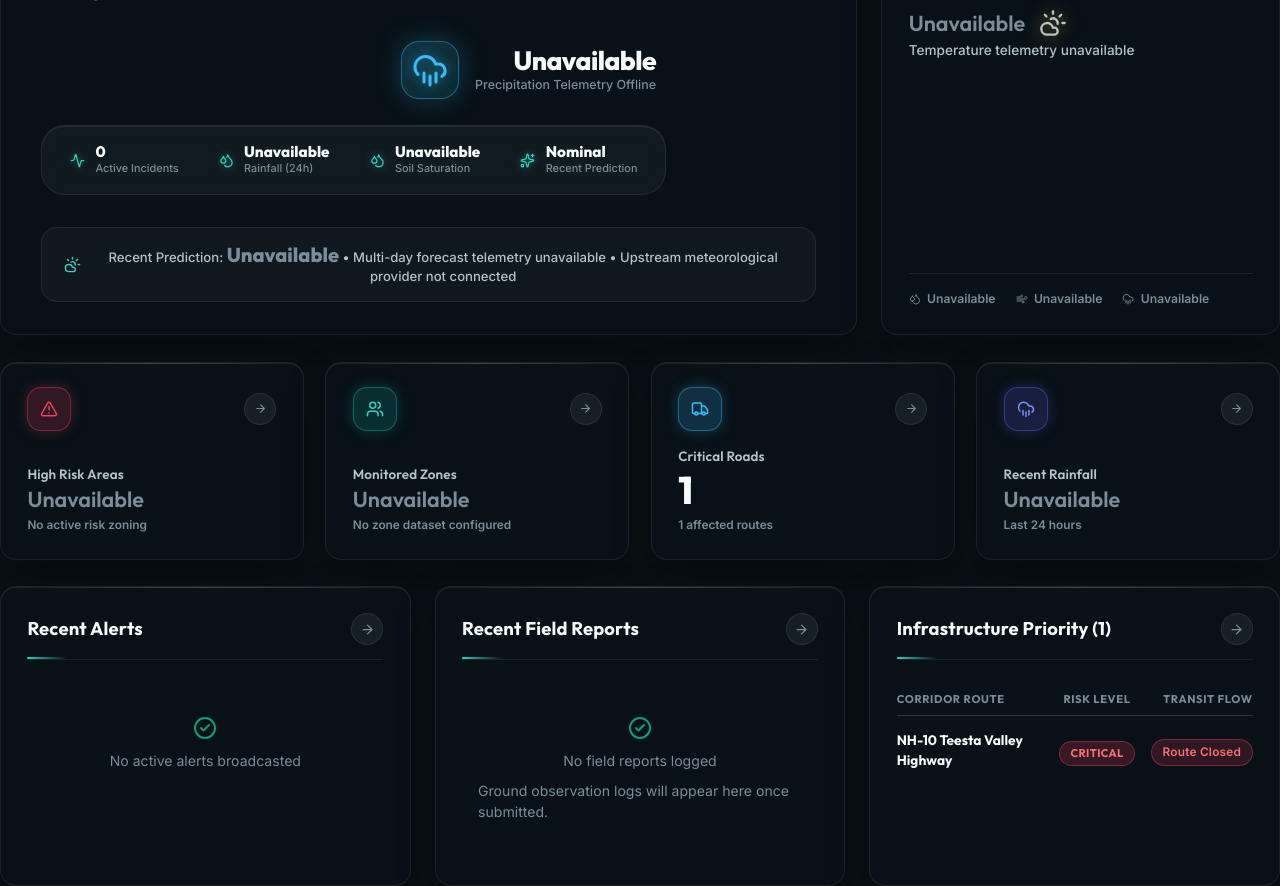
Test: Dashboard Core Data Correctness › Infrastructure Priority Enhancements › clicking the header arrow opens the Infrastructure Priority floating detail modal
(page scrolled)
Expected: the text "NH-10 Teesta Valley Highway" is shown, [897,730,1043,771]
What coordinates should you click on to do the following:
click the button titled "Inspect infrastructure routes in detail"
I would click on:
 (1237, 629)
Its box is [1221,613,1253,645].
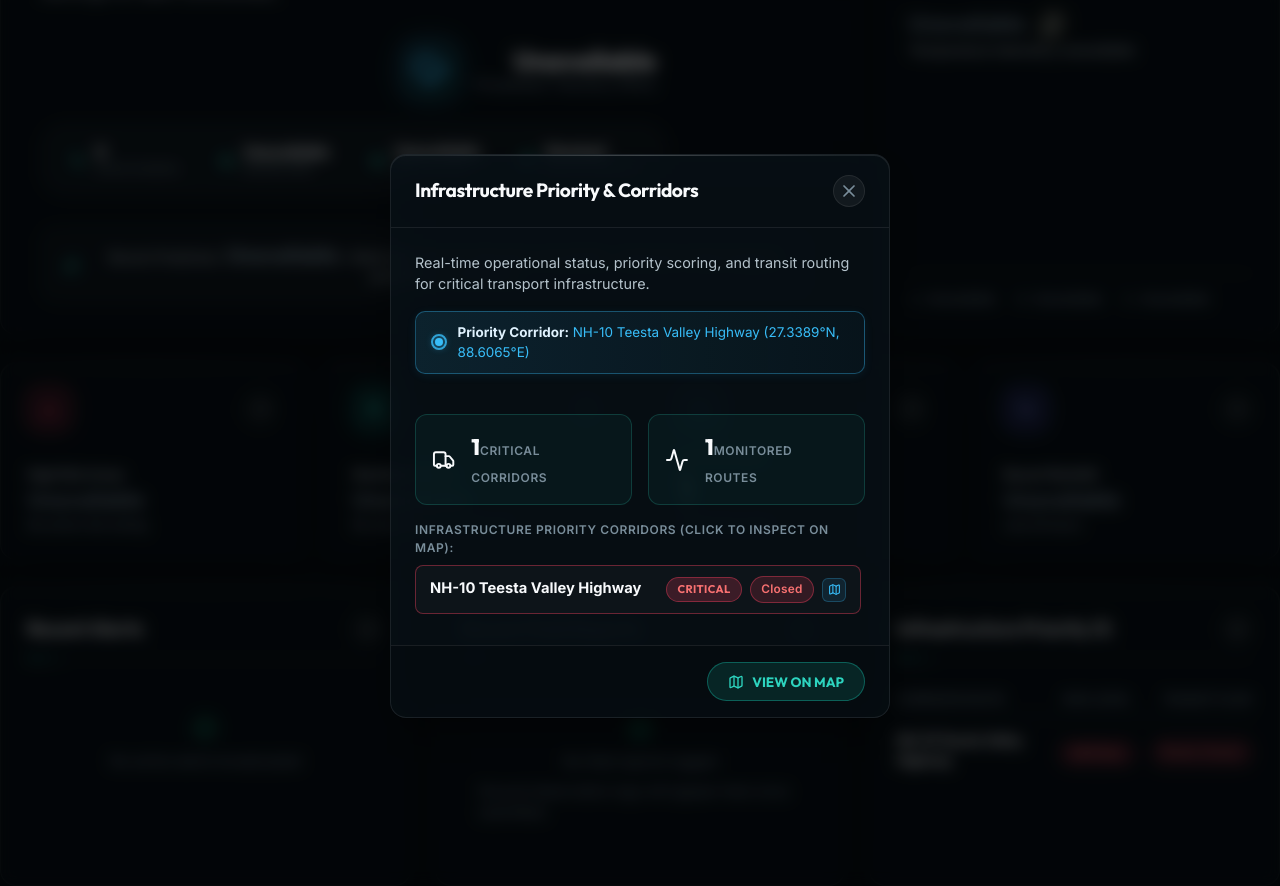
Now the heading "Infrastructure Priority & Corridors" is shown, box [415,179,698,202]
Now the text "Priority Corridor:" is shown, box [458,324,569,340]
